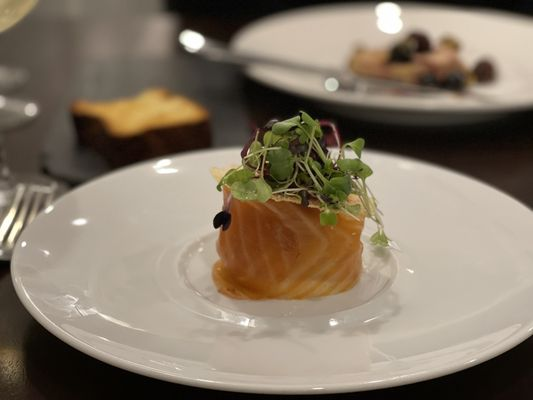burger: (0, 181, 56, 267)
